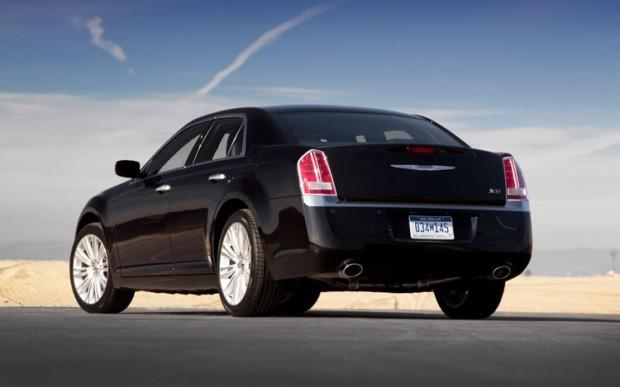car: (50, 76, 543, 325)
